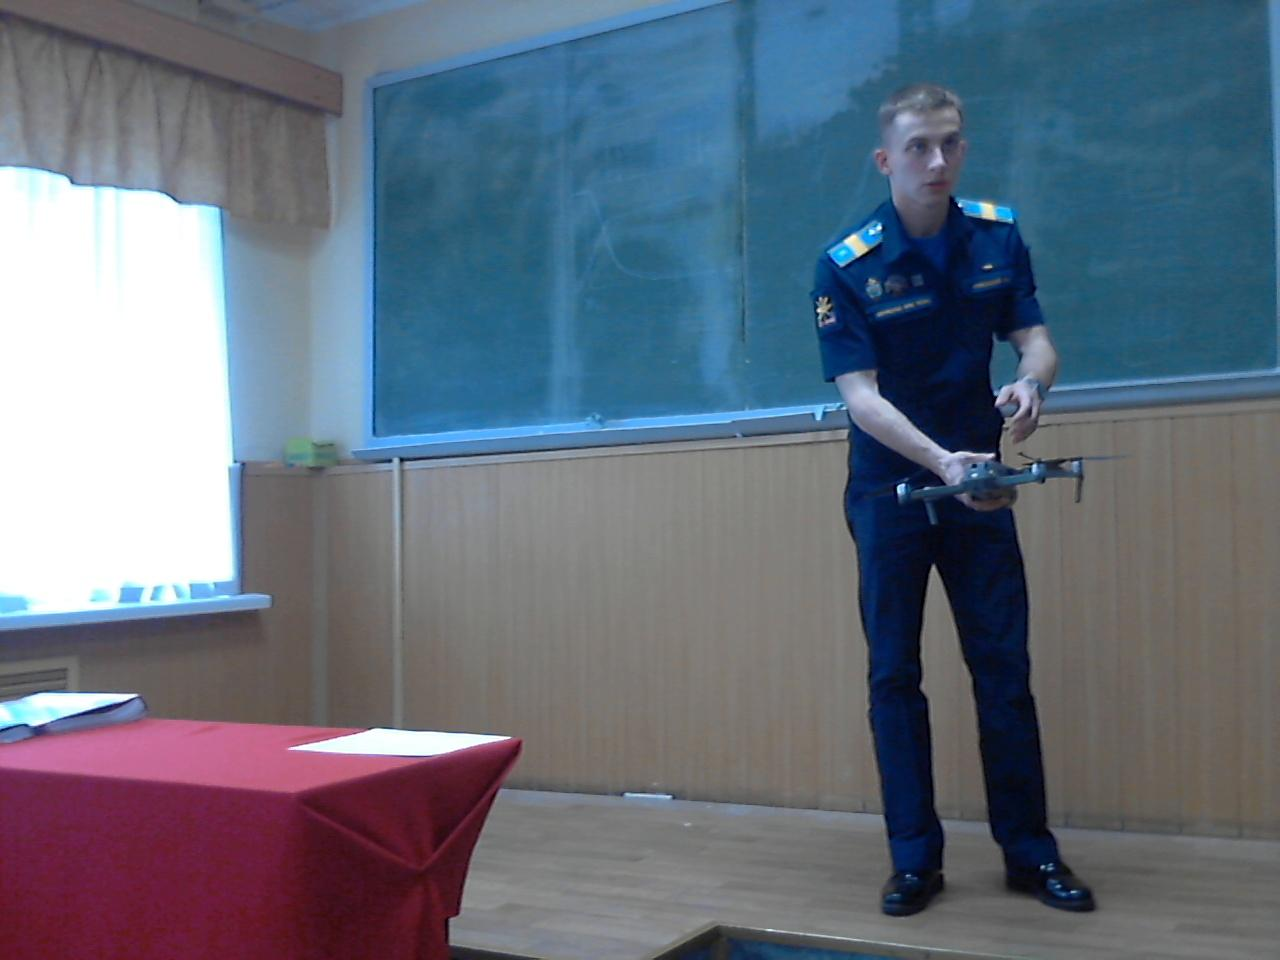drone: (870, 412, 1110, 529)
